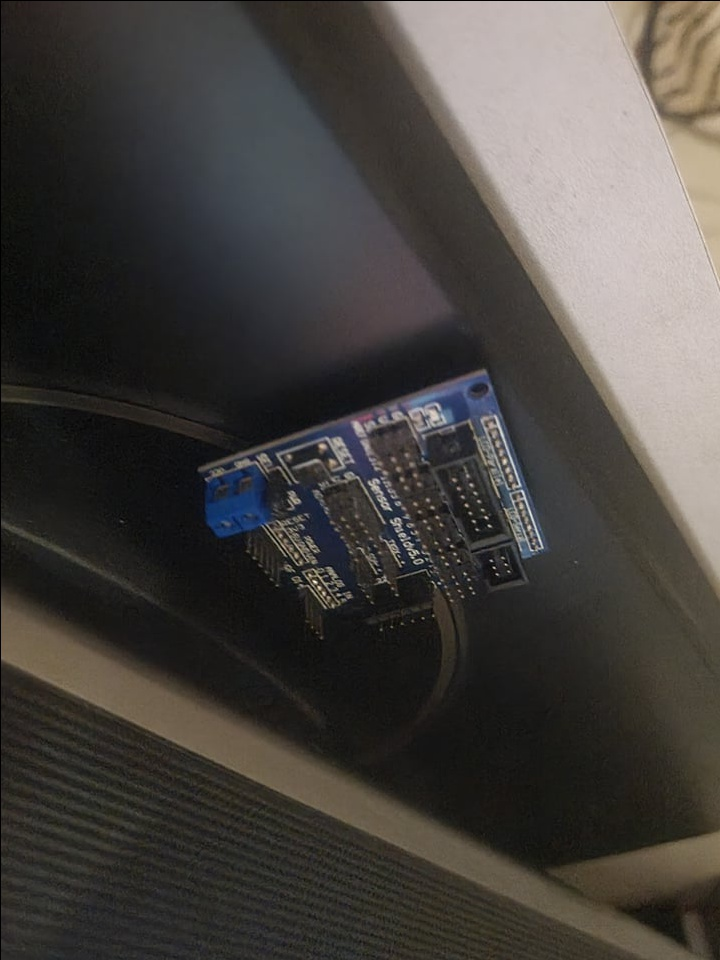5V EXPANSION: (191, 362, 546, 645)
